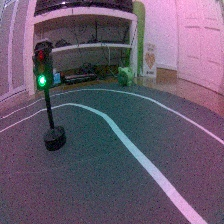green: (30, 39, 68, 155)
